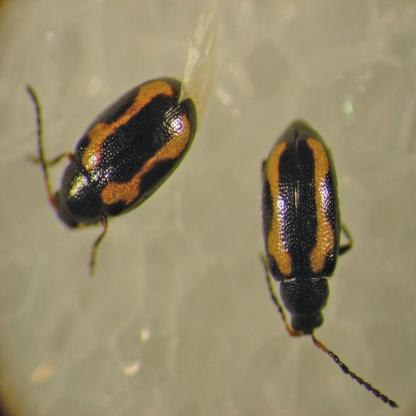beetle: (23, 73, 204, 245), (257, 114, 369, 356)
